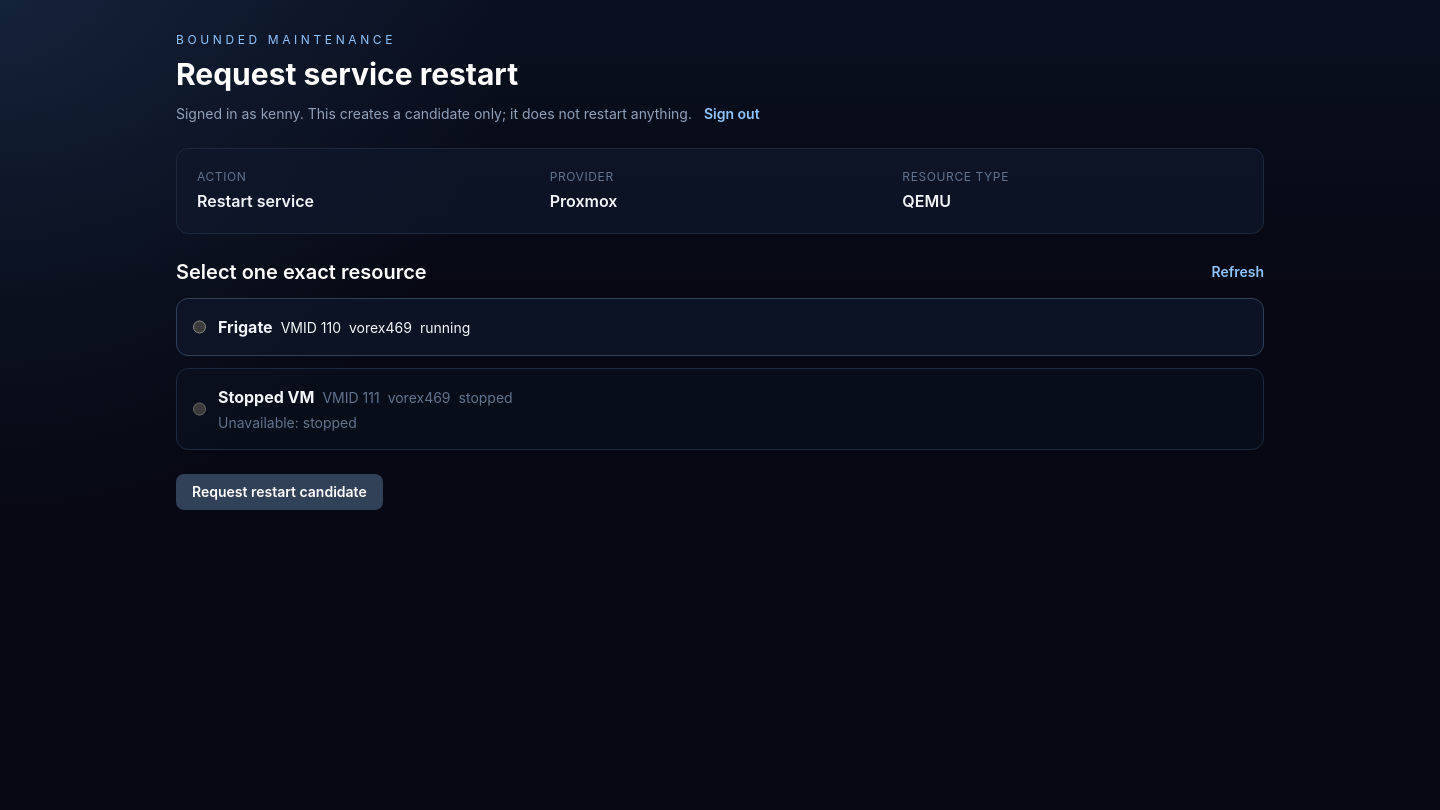
Test: MaintenanceRequestPage › refreshes and requires reselection after a stale CAS conflict
What coordinates should you click on to do the following:
click the radio button labelled "Frigate"
I would click on:
 (200, 327)
Its box is [193,315,206,339].
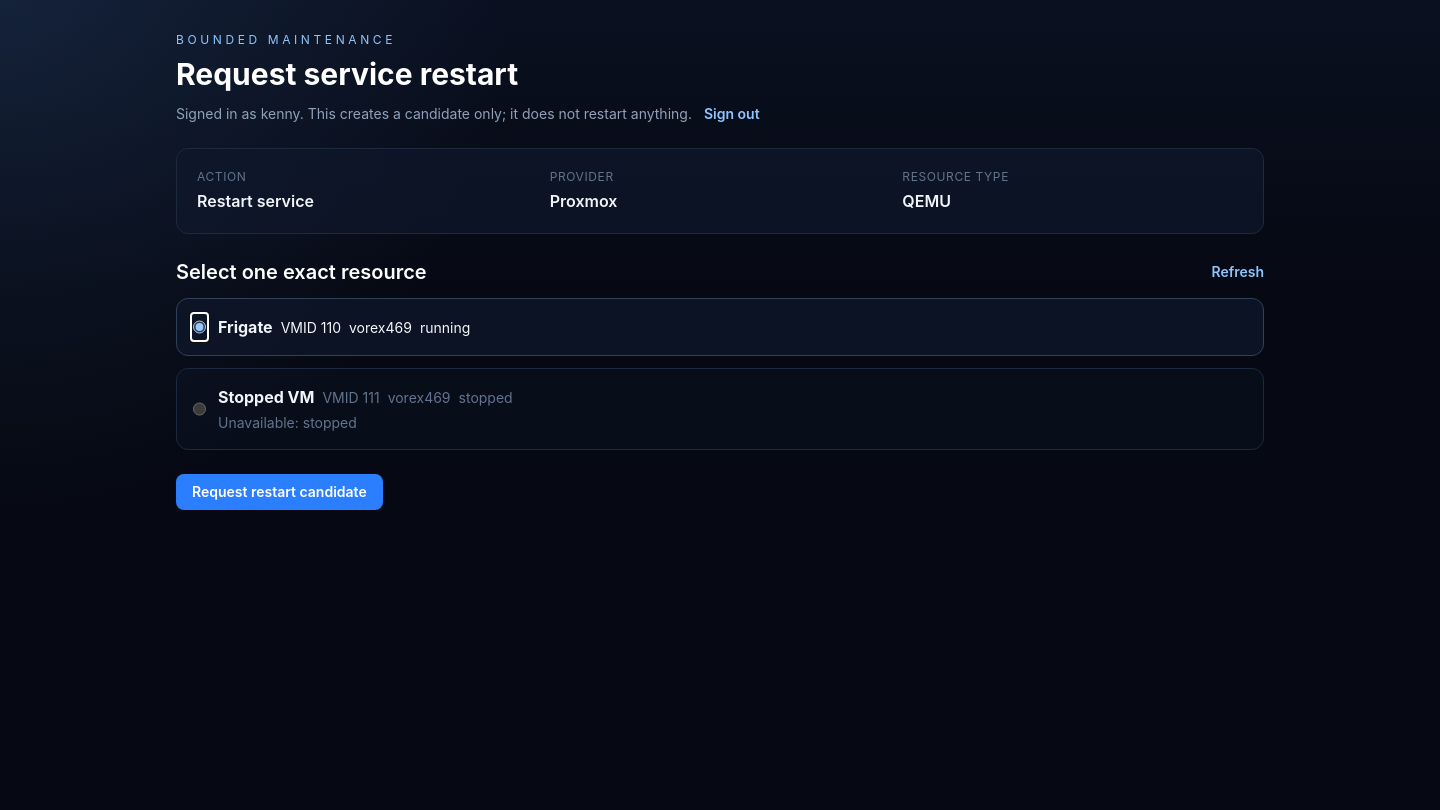
What coordinates should you click on to do the following:
click the button "Request restart candidate"
I would click on:
 (279, 492)
Its box is [176,474,383,510].
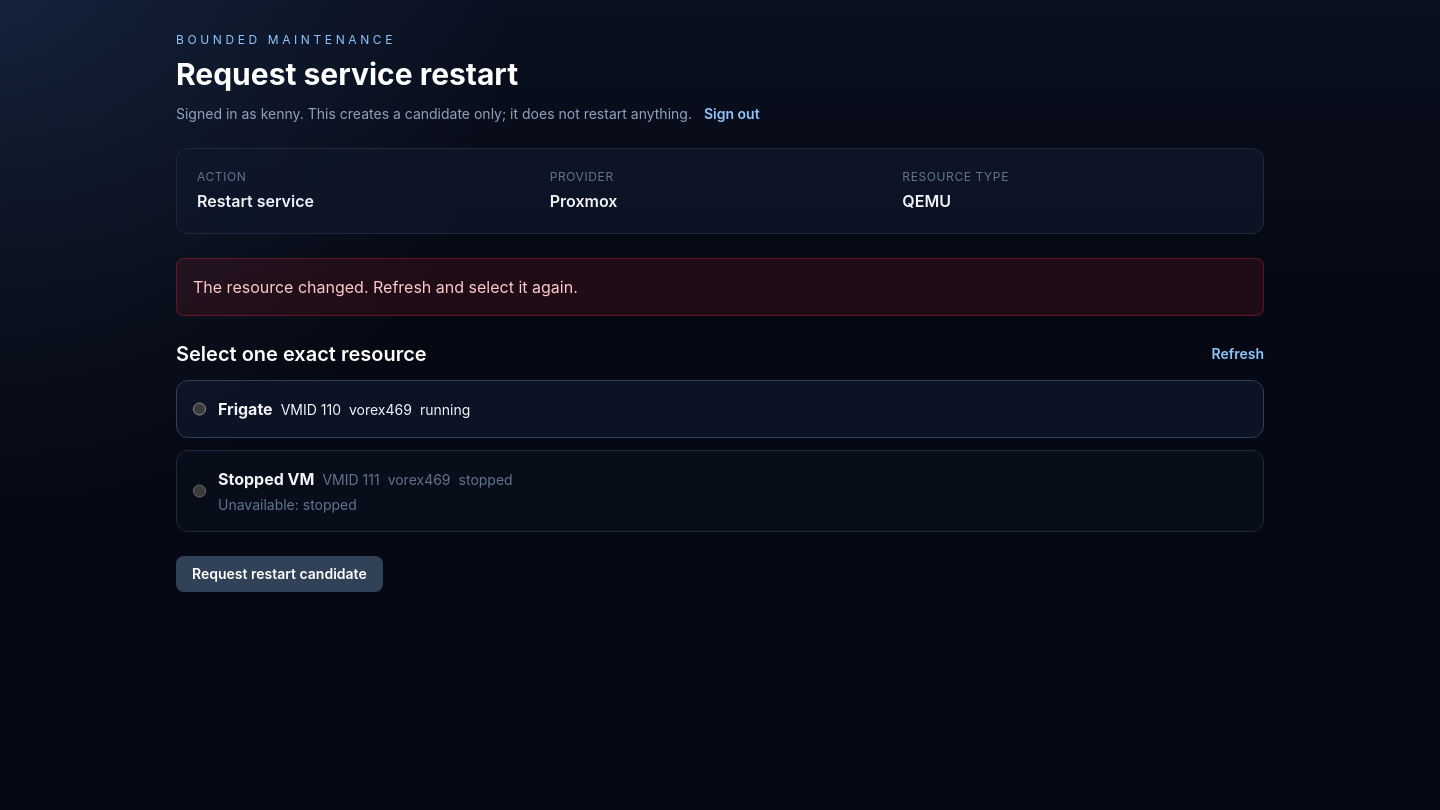
Now the radio button labelled "Frigate" is not checked, box [193,397,206,421]
Now the message shows "resource changed", box [193,277,578,297]
